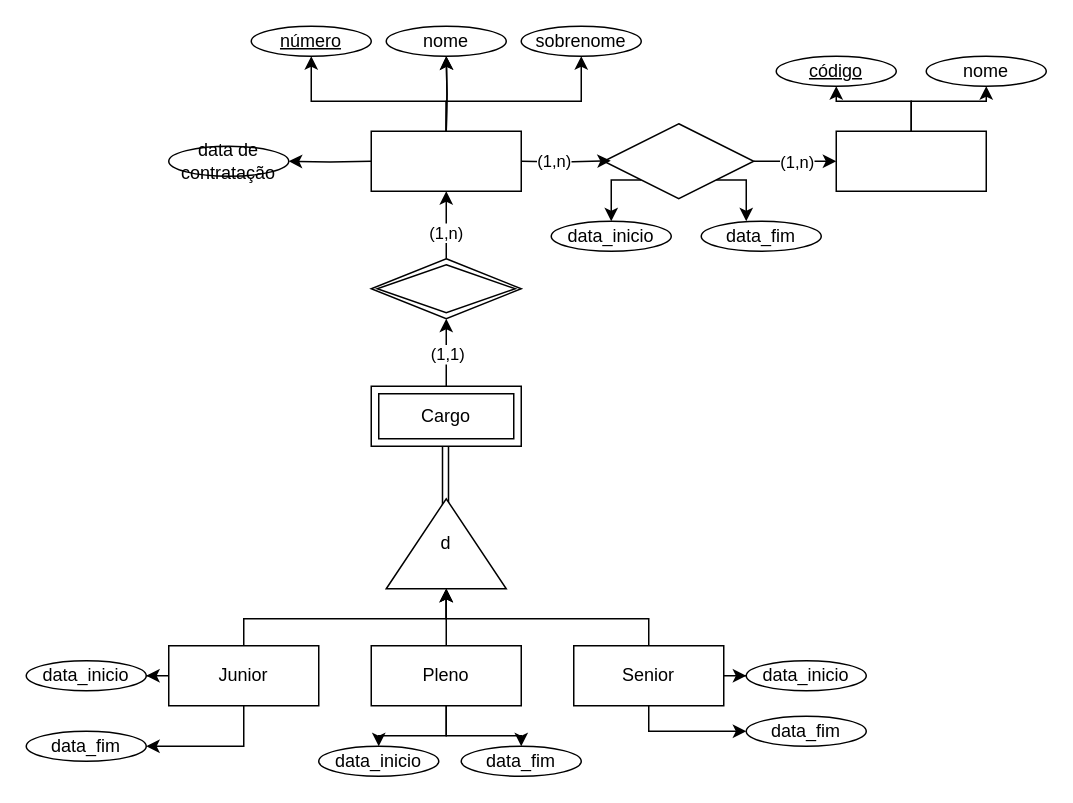
The diagram is 1073 pixels wide and 803 high, and some of its shapes have lost their labels. The shapes that lost their labels are listed below. From the top down, each one's centre as x and y in pixels, then its label:
At point (445, 160): "Funcionario".
At point (678, 160): "Trabalha".
At point (910, 160): "Departamento".
At point (445, 288): "Ocupação".
